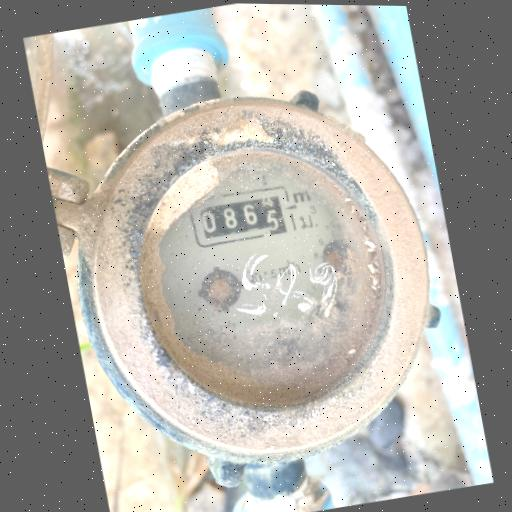0: (199, 204, 224, 239)
5: (261, 193, 287, 236)
6: (237, 195, 268, 232)
8: (218, 200, 244, 235)
border_water_meter_number: (186, 179, 297, 250)
